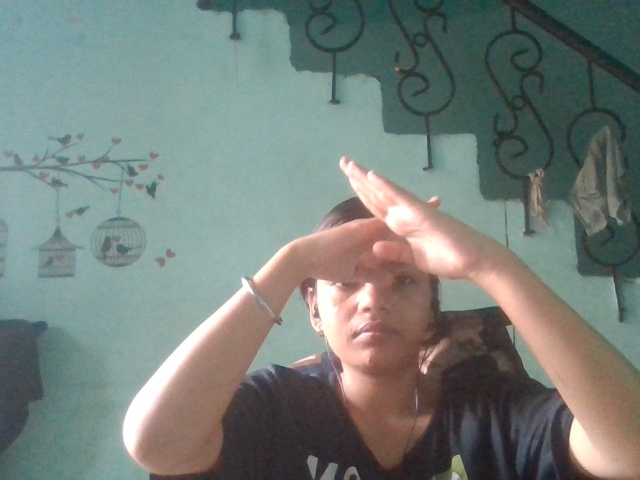no: (187, 152, 640, 480)
